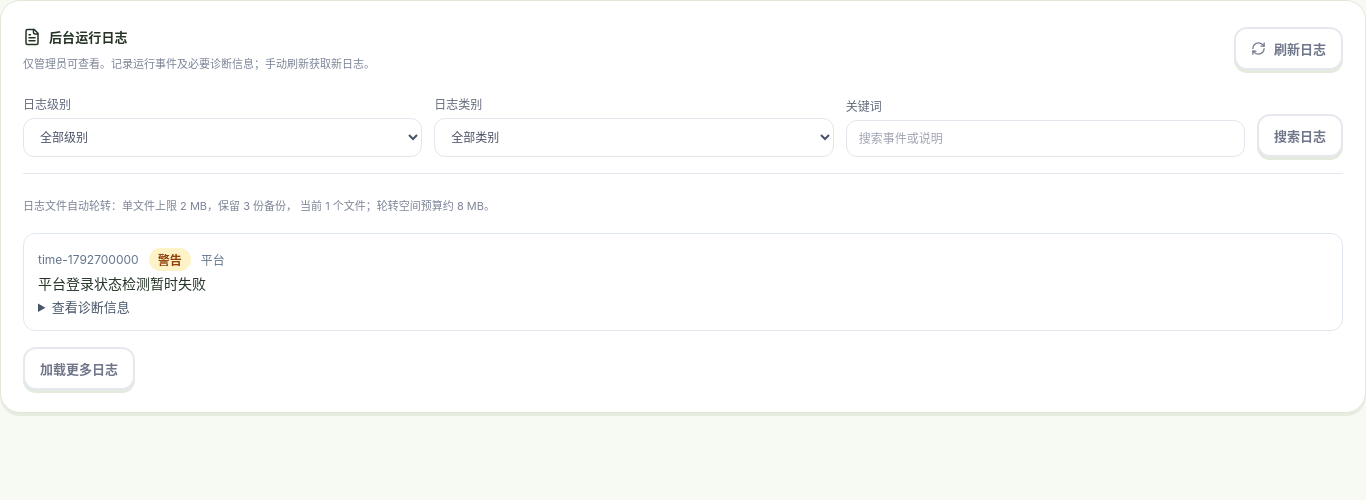
Test: appends older records without duplicates and refresh replaces the accumulated page
The width and height of the screenshot is (1366, 500).
Click the button "加载更多日志": (79, 368) [23,347,135,390]
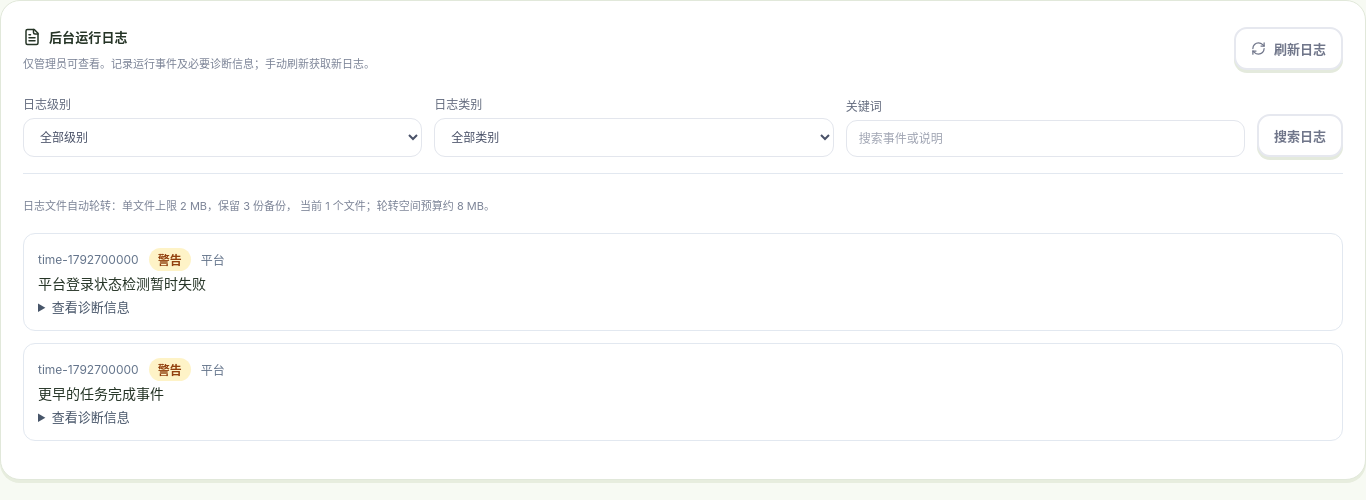
Result: the number of elements with class "system-log-entry" is 2 at [23,233,1343,331]; [23,343,1343,441]
Result: the text "更早的任务完成事件" is shown at [38,385,164,402]
Click the button "刷新日志": (1288, 49) [1234,27,1343,70]
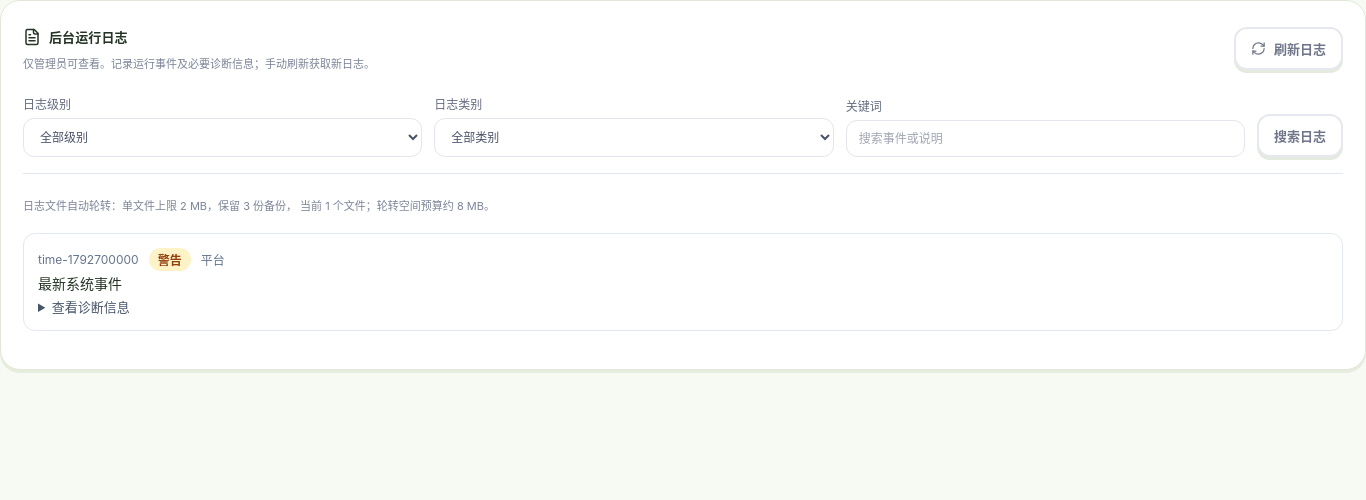
Result: the number of elements with class "system-log-entry" is 1 at [23,233,1343,331]
Result: the text "最新系统事件" is shown at [38,275,122,292]
Result: the text "更早的任务完成事件" is gone
